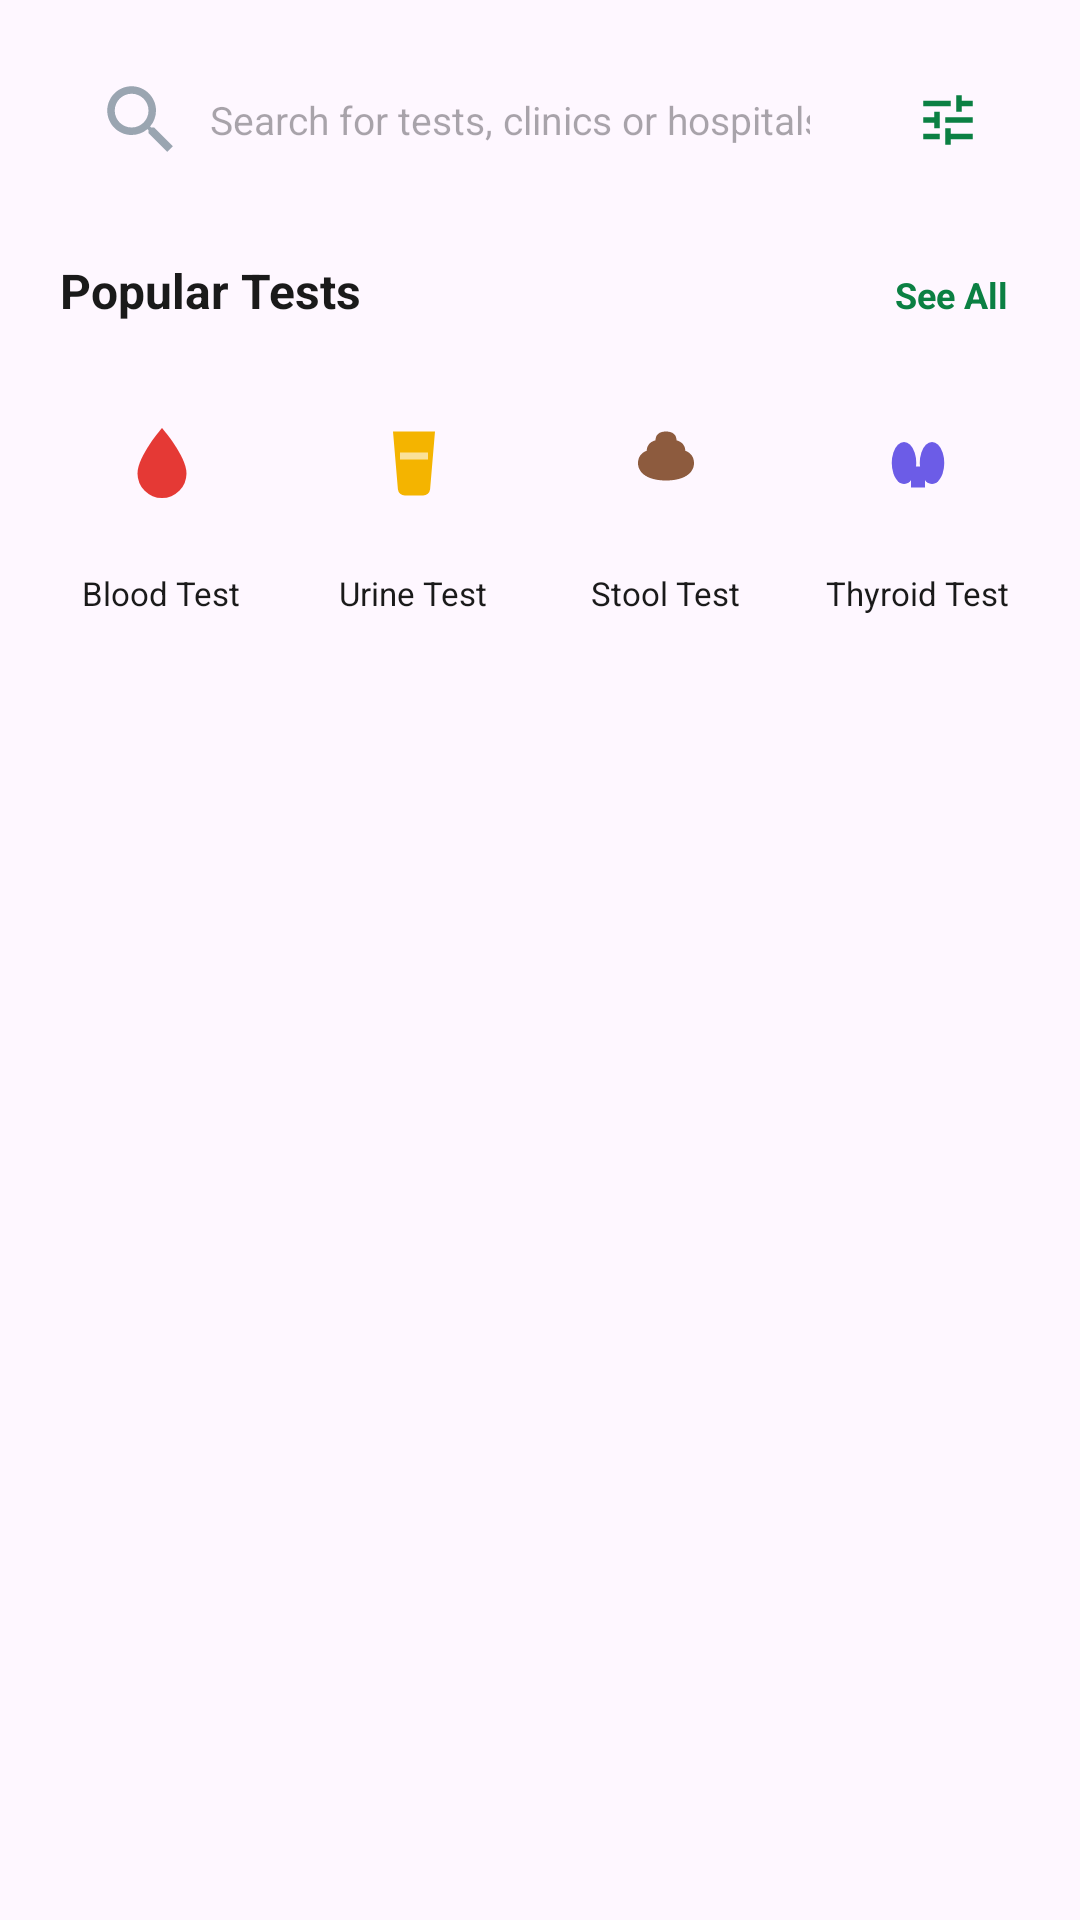

Locate icon controls on the screen. Image size 1080*1920, boxes as detection(x1, y1, x2, y2).
Filter: detection(923, 95, 973, 145)
